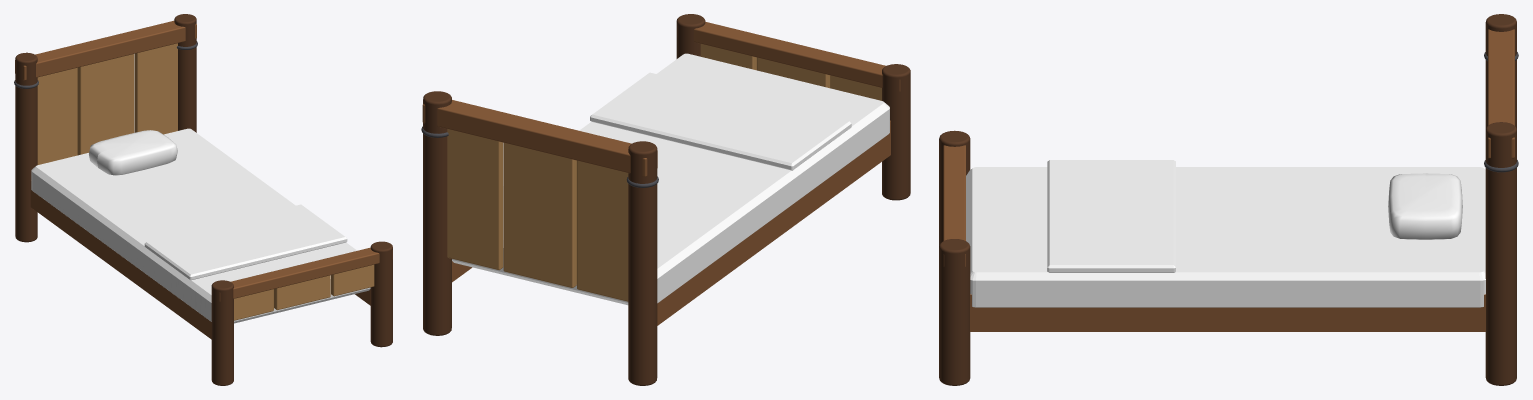
Rendered from cabin-log-bed.glb.
3 renders of one model, left to right at view 1: azimuth 30°, elevation 25°; view 2: azimuth 150°, elevation 25°; view 3: azimuth 270°, elevation 25°, orthographic. The views are drawn at different scales.
Parts seen in each view (by area): view 1: mattress, blanket, head.board.2, post.head.left, head.board.3, head.cap, head.board.1, rail.side.left, pillow, foot.cap, post.foot.left, post.foot.right (+4 smaller); view 2: mattress, blanket, head.board.2, head.board.3, post.head.left, head.board.1, post.head.right, head.cap, rail.side.left, foot.cap, post.foot.left, foot.board.2 (+3 smaller); view 3: mattress, blanket, rail.side.right, post.head.right, pillow, post.foot.right, head.cap, foot.cap, post.foot.left, post.head.left.
Boxes of the visible parts, x1=… form: mattress: x1=31, y1=128, x2=370, y2=323; blanket: x1=144, y1=204, x2=347, y2=280; head.board.2: x1=77, y1=54, x2=134, y2=155; post.head.left: x1=15, y1=52, x2=37, y2=242; head.board.3: x1=134, y1=43, x2=177, y2=134; head.cap: x1=15, y1=20, x2=196, y2=80; head.board.1: x1=37, y1=67, x2=77, y2=164; rail.side.left: x1=30, y1=180, x2=211, y2=339; pillow: x1=89, y1=130, x2=177, y2=175; foot.cap: x1=219, y1=247, x2=392, y2=301; post.foot.left: x1=211, y1=280, x2=233, y2=385; post.foot.right: x1=370, y1=241, x2=392, y2=347; mattress: x1=452, y1=53, x2=889, y2=305; blanket: x1=590, y1=72, x2=851, y2=170; head.board.2: x1=503, y1=143, x2=576, y2=287; head.board.3: x1=447, y1=129, x2=503, y2=270; post.head.left: x1=628, y1=141, x2=657, y2=385; head.board.1: x1=577, y1=160, x2=628, y2=301; post.head.right: x1=423, y1=91, x2=451, y2=335; head.cap: x1=422, y1=100, x2=657, y2=176; rail.side.left: x1=657, y1=120, x2=890, y2=325; foot.cap: x1=677, y1=21, x2=900, y2=91; post.foot.left: x1=882, y1=64, x2=910, y2=200; foot.board.2: x1=757, y1=57, x2=830, y2=88; mattress: x1=966, y1=167, x2=1485, y2=307; blanket: x1=1047, y1=160, x2=1175, y2=272; rail.side.right: x1=970, y1=294, x2=1485, y2=331; post.head.right: x1=1485, y1=122, x2=1516, y2=385; pillow: x1=1388, y1=173, x2=1462, y2=239; post.foot.right: x1=939, y1=239, x2=970, y2=385; head.cap: x1=1488, y1=29, x2=1514, y2=158; foot.cap: x1=943, y1=145, x2=965, y2=266; post.foot.left: x1=939, y1=130, x2=970, y2=246; post.head.left: x1=1485, y1=14, x2=1516, y2=129.
Size of the model in its own units: 1.4 by 1.34 by 2.79.
